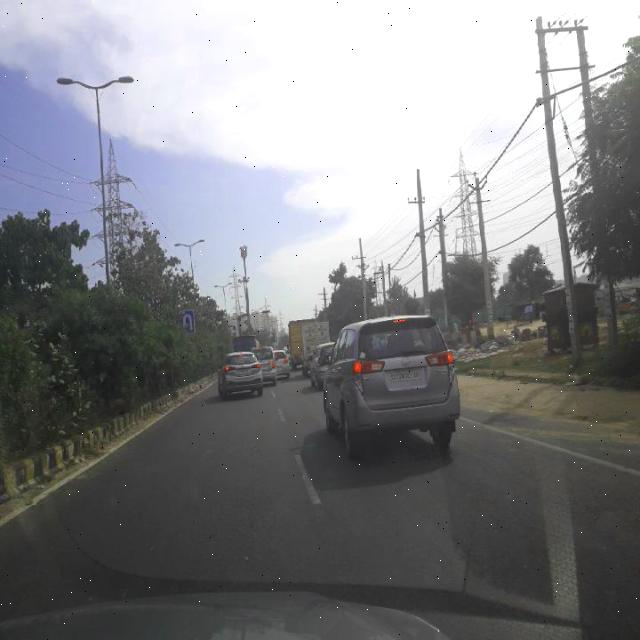D20: (6, 438, 640, 611)
